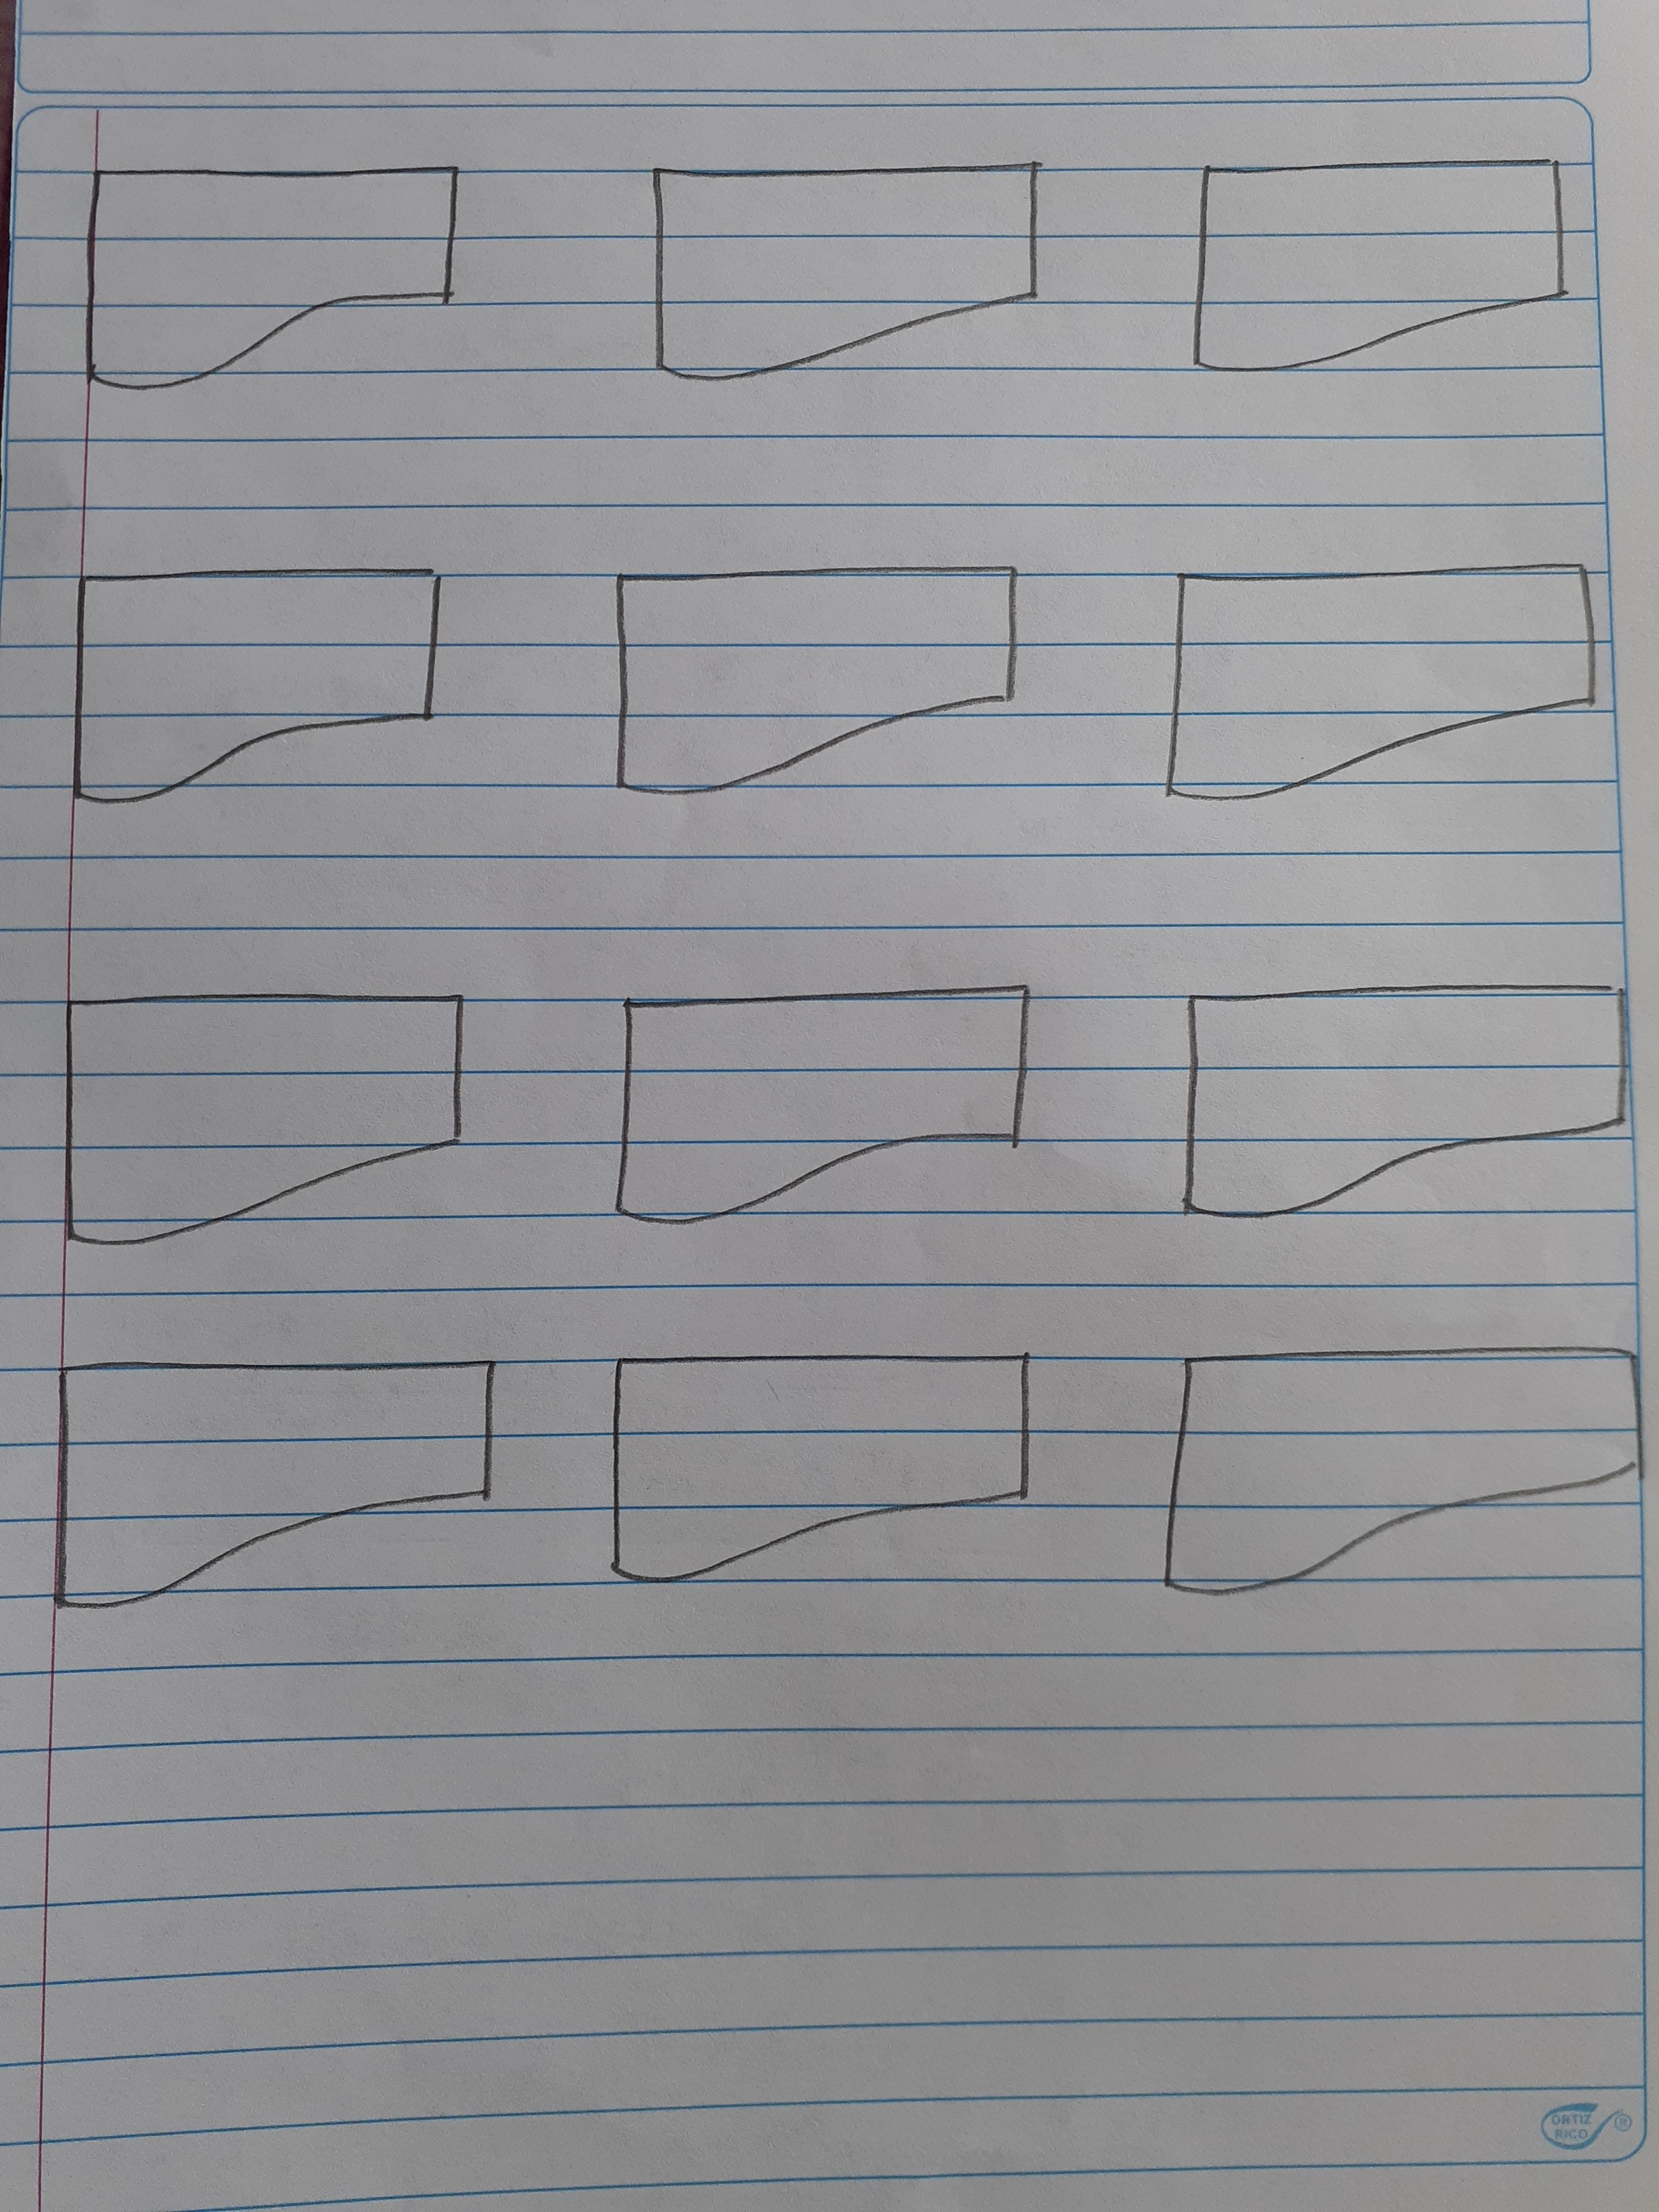print: (1154, 1317, 1650, 1662), (1129, 523, 1624, 855), (594, 1299, 1047, 1644), (559, 536, 1061, 822), (42, 967, 491, 1271), (591, 951, 1058, 1238), (42, 1339, 512, 1622), (45, 543, 472, 845), (1154, 120, 1589, 415), (1173, 974, 1643, 1238), (624, 146, 1075, 401), (71, 143, 498, 404)
